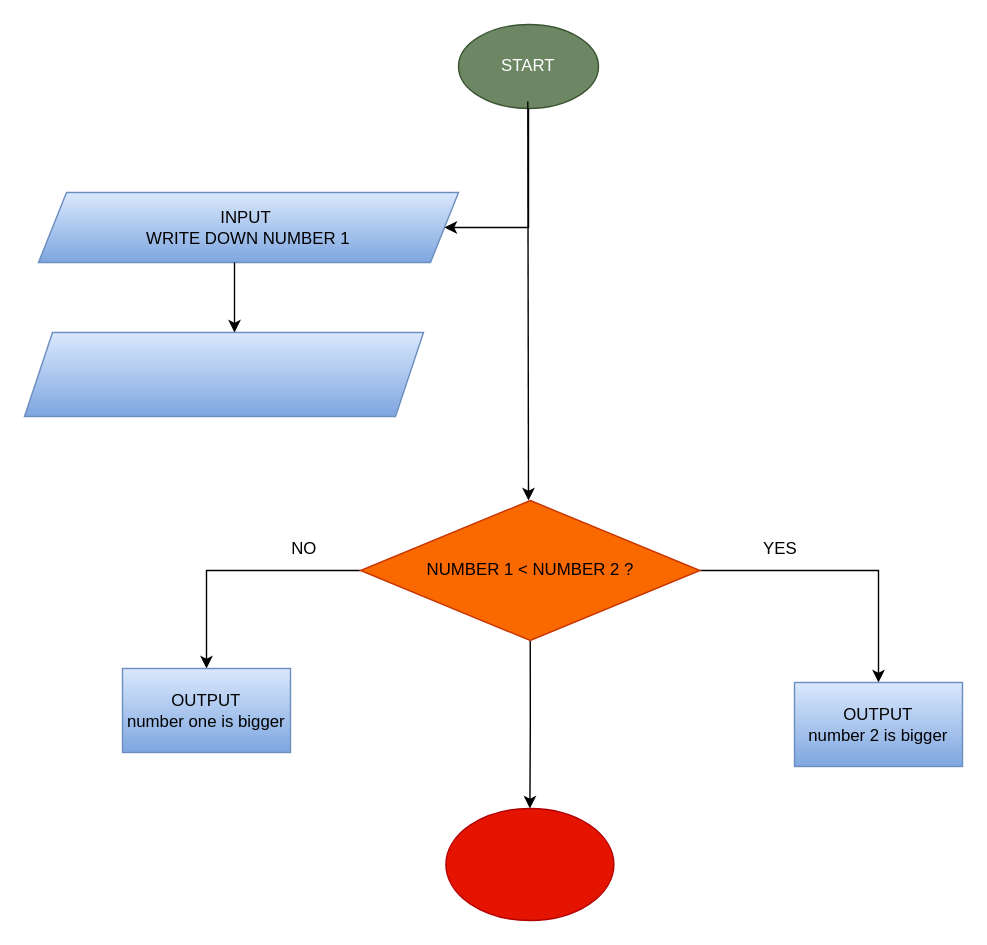
Image size: 987x945. Some labels were removed from this diagram. Each missing label, with the box of its shape:
INPUT WRITE THE NUMBER 2: (23, 331, 424, 416)
STOP: (444, 807, 614, 920)
